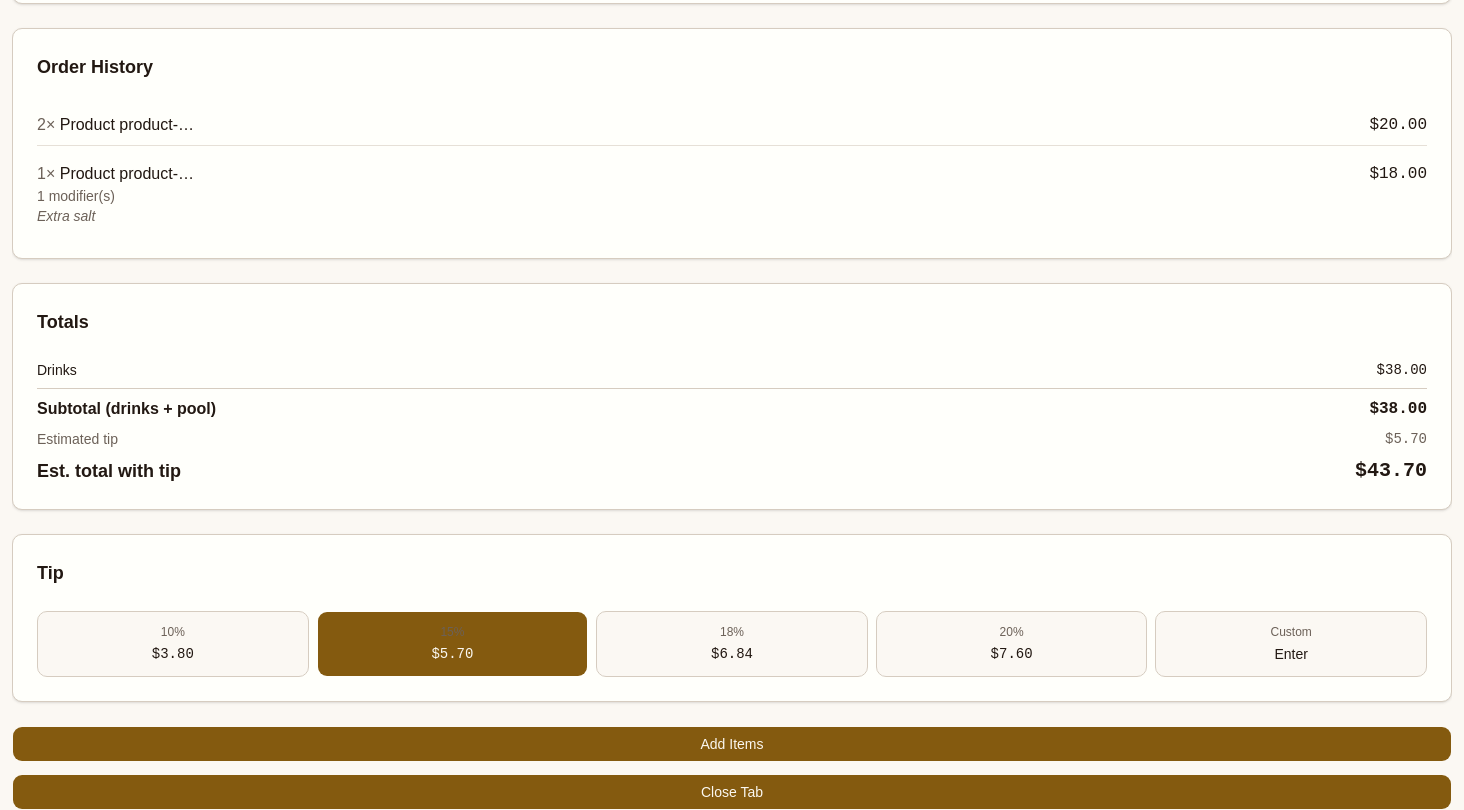
Test: TabDetail › Tip Suggestions Display › should display custom tip input field
This screenshot has width=1464, height=810.
(page scrolled)
Click the button "Custom Enter" at (1291, 644), box left=1155, top=611, right=1427, bottom=677
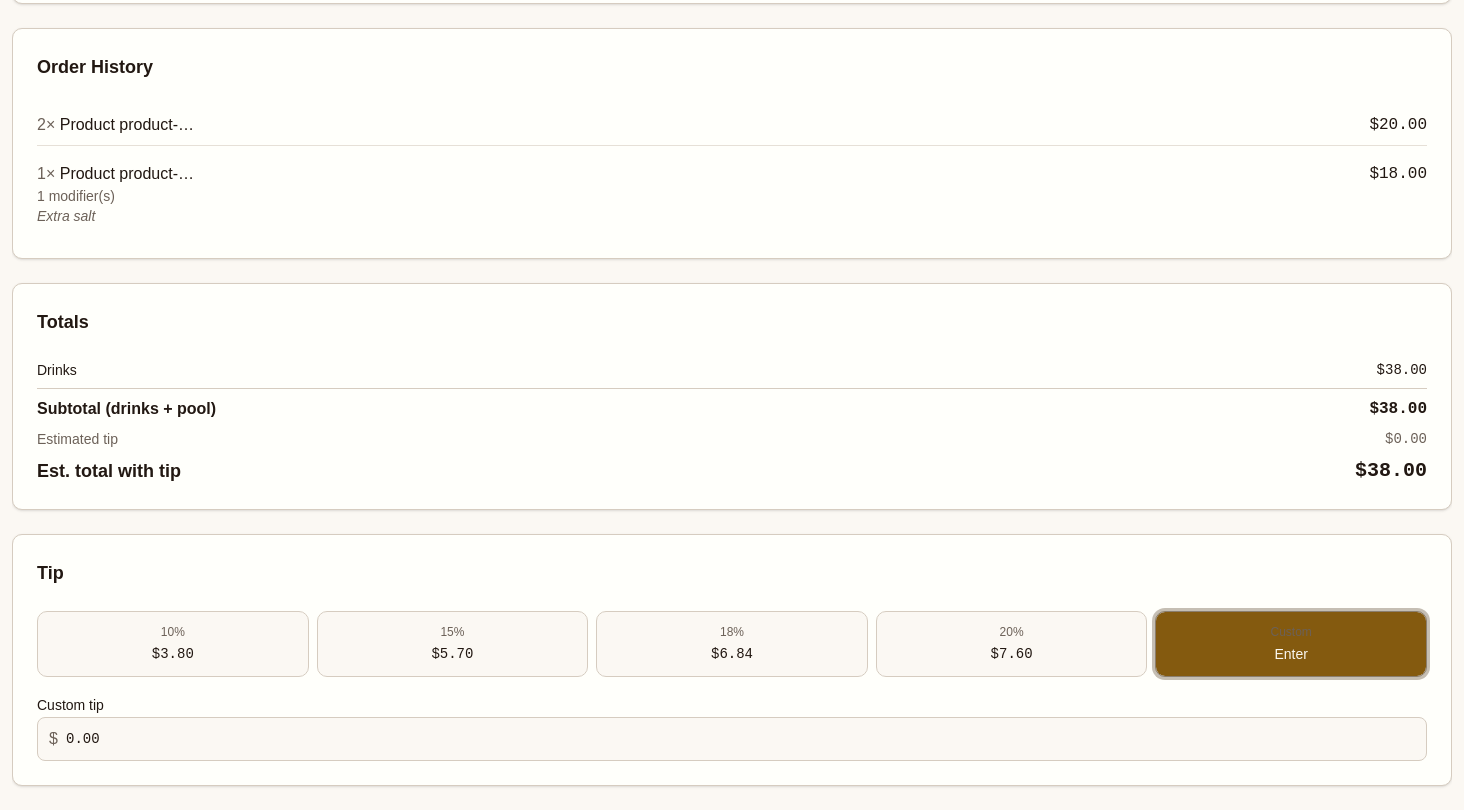
Expected: the field labelled "Custom tip" is shown, left=37, top=717, right=1427, bottom=761
